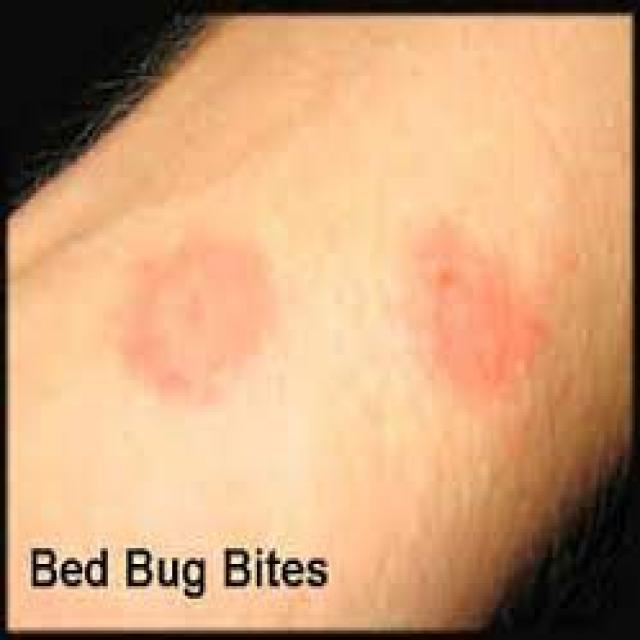kan emici bocekler: (144, 239, 269, 374), (422, 247, 529, 371)
